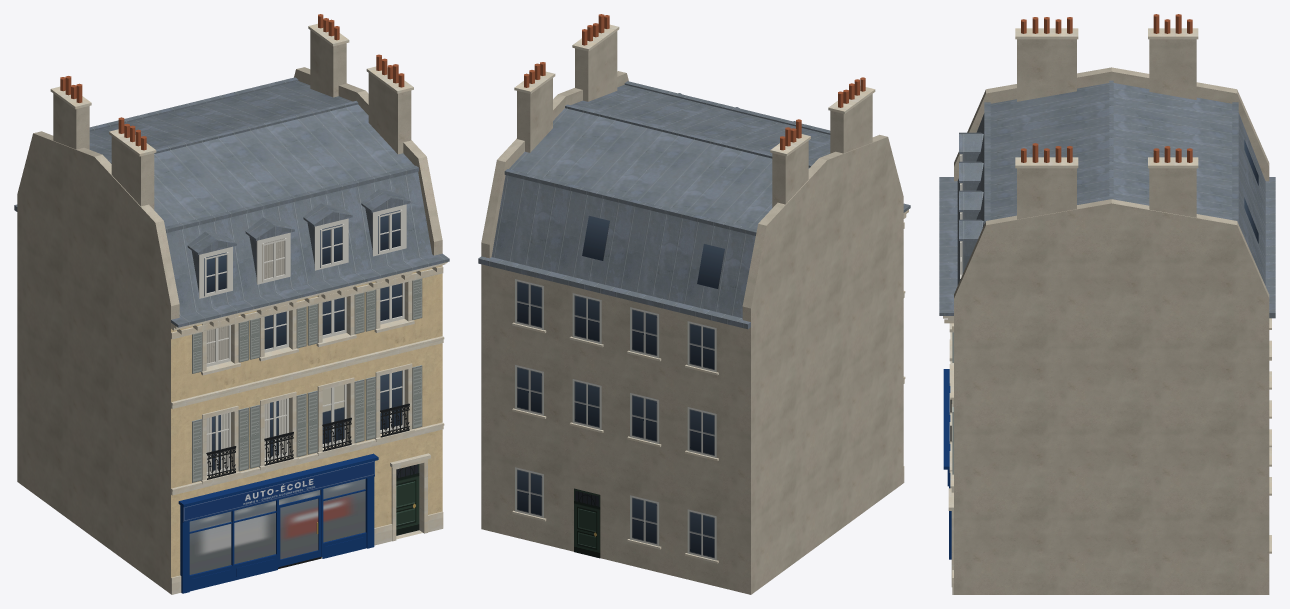
The model's file is immeuble_enduit_auto_ecole.glb.
The picture shows the model from 3 angles, left to right: view 1: azimuth 30°, elevation 25°; view 2: azimuth 150°, elevation 25°; view 3: azimuth 270°, elevation 25°; orthographic projection. The views are drawn at different scales.
Parts seen in each view (by area): view 1: immeuble_enduit_auto_ecole; view 2: immeuble_enduit_auto_ecole; view 3: immeuble_enduit_auto_ecole.
Part boxes in pixels (x1=…): immeuble_enduit_auto_ecole: x1=14, y1=14, x2=449, y2=594; immeuble_enduit_auto_ecole: x1=478, y1=14, x2=910, y2=594; immeuble_enduit_auto_ecole: x1=939, y1=14, x2=1275, y2=594.
Bounding box in the file's own units: 10.3 × 15.63 × 10.66.
Materials: 13 (7 with a texture image).
